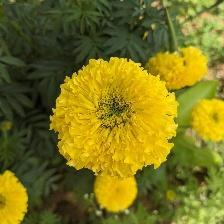marigold: (49, 55, 177, 172)
